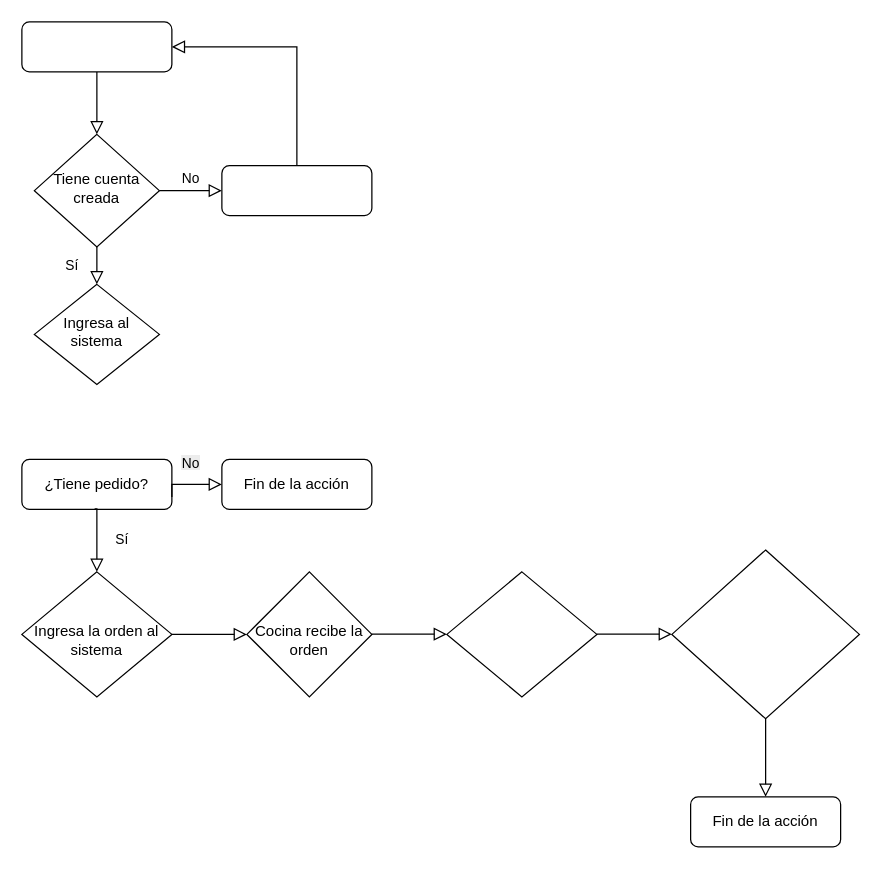
This 881x869 diagram has some shape labels left out. The centre of each missing label's shape, as x and y in pixels:
"Cocina prepara la orden" goes at (x=521, y=634).
"Crear cuenta" goes at (x=296, y=190).
"Inicia el sistema en la web" goes at (x=96, y=46).
"La orden es entregada al cliente" goes at (x=765, y=634).
